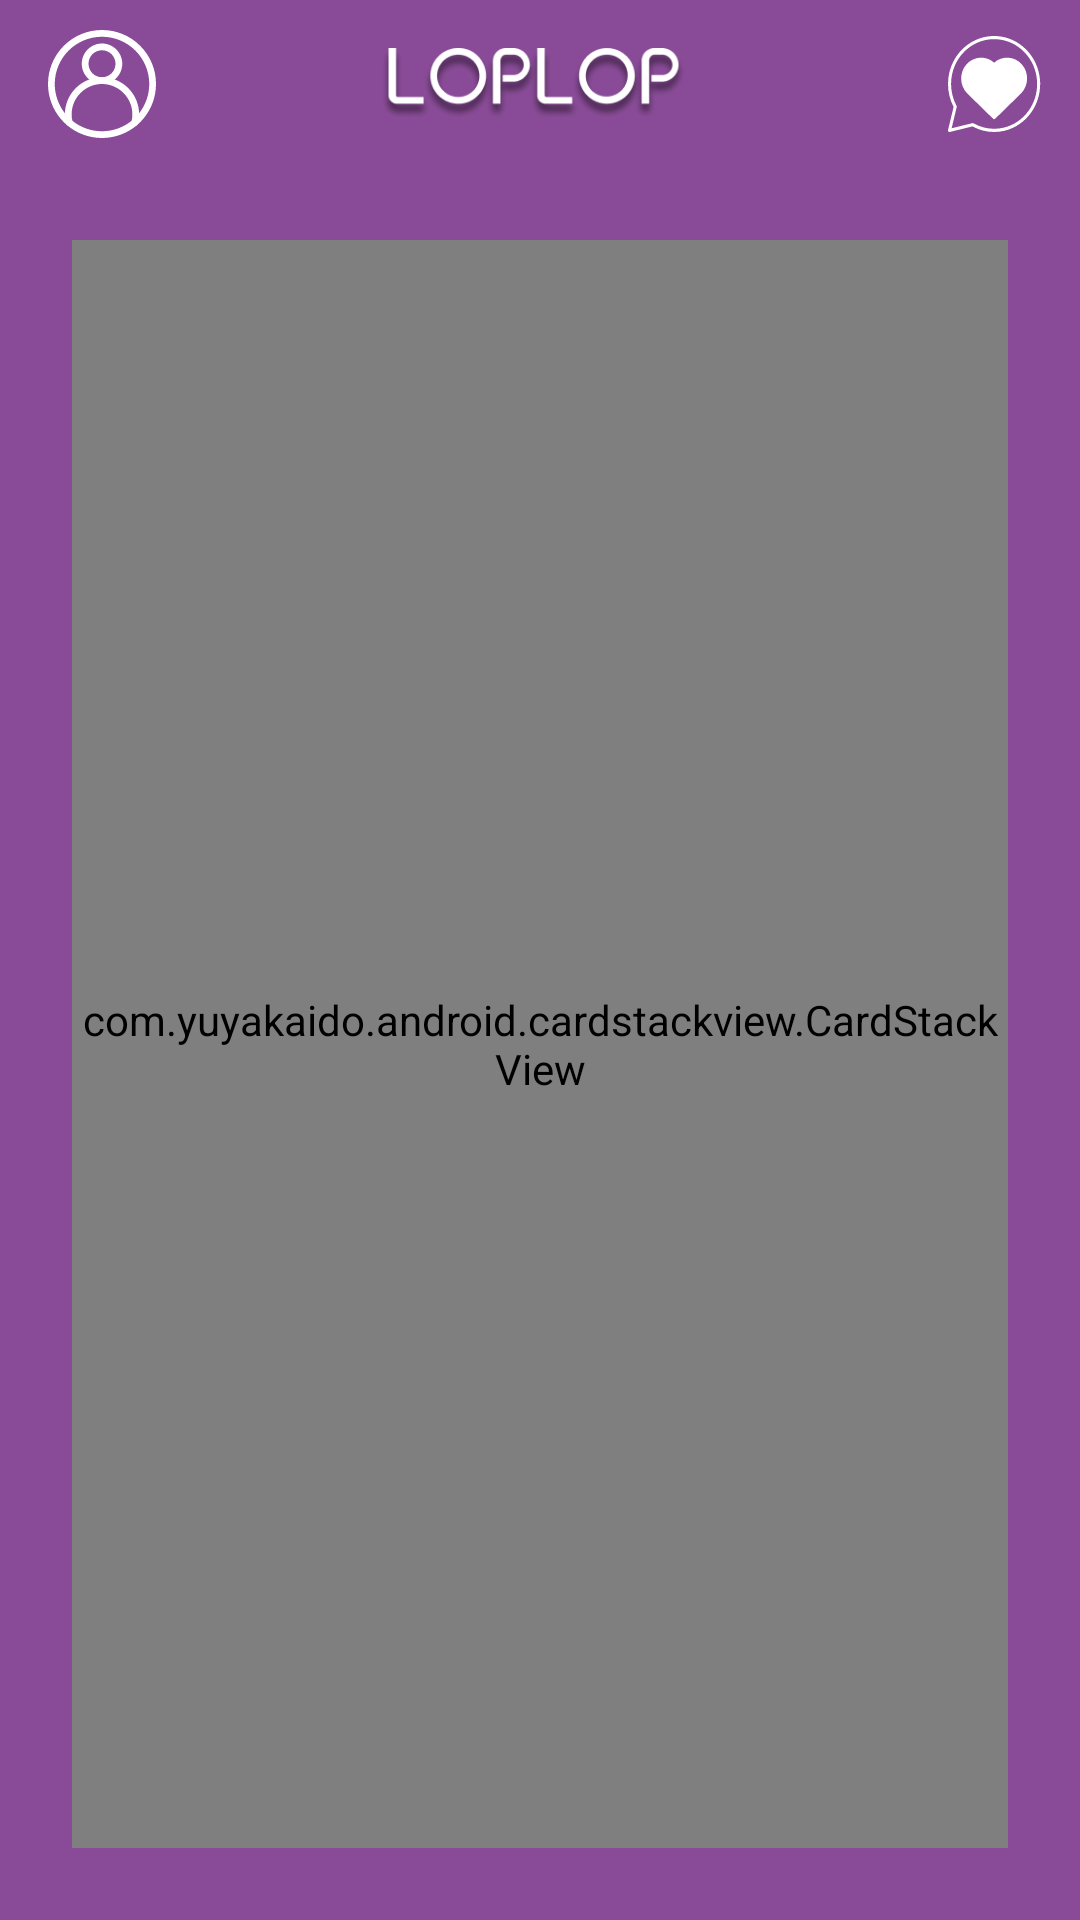

Screen size 1080w x 1920h. Icon name, then its box in pixels as region(x1, y1, x2, y2):
person: region(48, 30, 156, 138)
